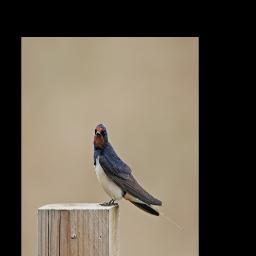Swallow: (92, 120, 184, 231)
